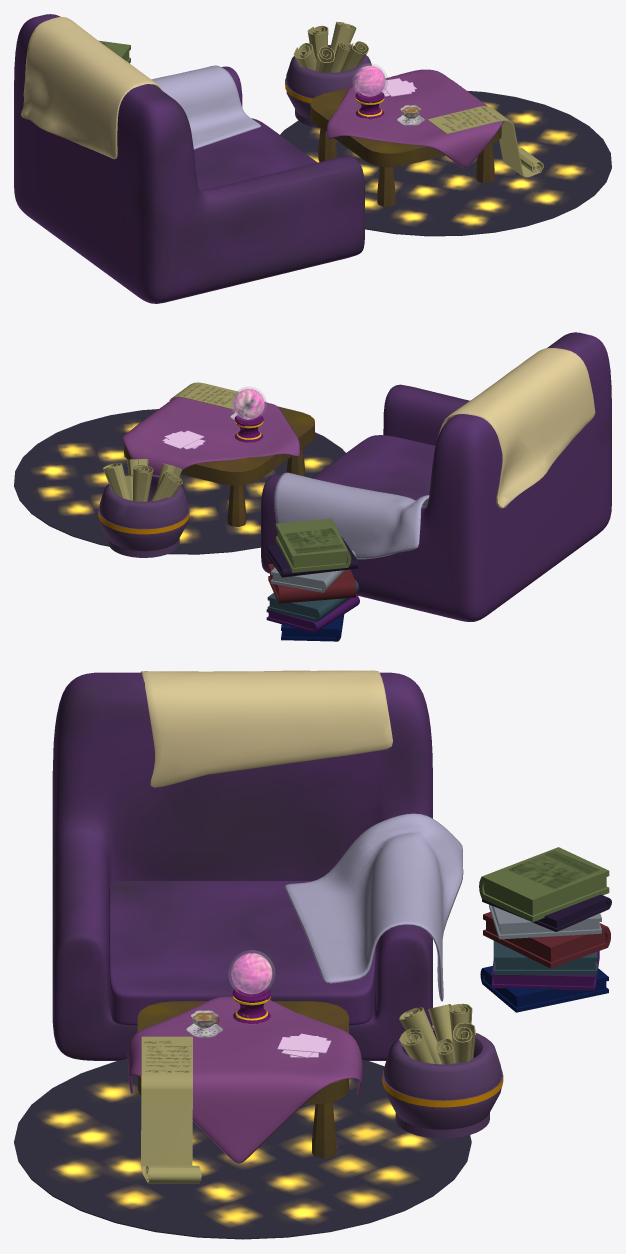
The model's file is tarot.fbx.
3 renders of one model, top to bottom at view 1: azimuth 30°, elevation 25°; view 2: azimuth 150°, elevation 25°; view 3: azimuth 270°, elevation 25°, orthographic. The views are drawn at different scales.
Parts seen in each view (by area): view 1: Cube, Cylinder.003, Plane.002, Plane.006, Plane, Plane.005, Cube.001, Plane.007, Cylinder.002, Sphere, Sphere.001, Cylinder (+5 smaller); view 2: Cube, Cylinder.003, Plane.002, Plane, Plane.006, Cube.001, Cylinder.002, Plane.005, Sphere.008, Sphere.003, Sphere.002, Sphere.006 (+10 smaller); view 3: Cube, Cylinder.003, Cube.001, Plane.002, Plane, Plane.006, Cylinder.002, Plane.007, Sphere.008, Plane.005, Sphere.003, Sphere.007 (+10 smaller).
Part boxes in pixels (x1,y1,x2,y2): Cube: [14, 14, 364, 303]; Cylinder.003: [280, 90, 611, 236]; Plane.002: [21, 17, 162, 159]; Plane.006: [326, 69, 504, 168]; Plane: [151, 65, 261, 149]; Plane.005: [310, 87, 501, 206]; Cube.001: [194, 118, 317, 189]; Plane.007: [427, 106, 543, 177]; Cylinder.002: [285, 45, 371, 128]; Sphere: [352, 63, 387, 97]; Sphere.001: [354, 65, 385, 96]; Cylinder: [355, 92, 384, 119]; Cube: [261, 332, 611, 621]; Cylinder.003: [14, 409, 345, 554]; Plane.002: [437, 348, 595, 508]; Plane: [274, 472, 429, 559]; Plane.006: [122, 397, 300, 475]; Cube.001: [312, 435, 435, 500]; Cylinder.002: [98, 474, 189, 557]; Plane.005: [124, 406, 314, 526]; Sphere.008: [275, 518, 351, 572]; Sphere.003: [268, 563, 356, 603]; Sphere.002: [267, 580, 358, 621]; Sphere.006: [266, 595, 359, 633]; Cube: [52, 672, 432, 1060]; Cylinder.003: [14, 1059, 471, 1239]; Cube.001: [109, 881, 376, 1025]; Plane.002: [140, 670, 392, 787]; Plane: [284, 813, 463, 1001]; Plane.006: [127, 996, 362, 1163]; Cylinder.002: [382, 1027, 503, 1138]; Plane.007: [141, 1036, 201, 1183]; Sphere.008: [479, 847, 609, 922]; Plane.005: [137, 1001, 348, 1158]; Sphere.003: [483, 912, 610, 968]; Sphere.007: [480, 966, 608, 1012].
Bounding box in the file's own units: 541 × 196 × 403.
2 materials, 1 textured.
